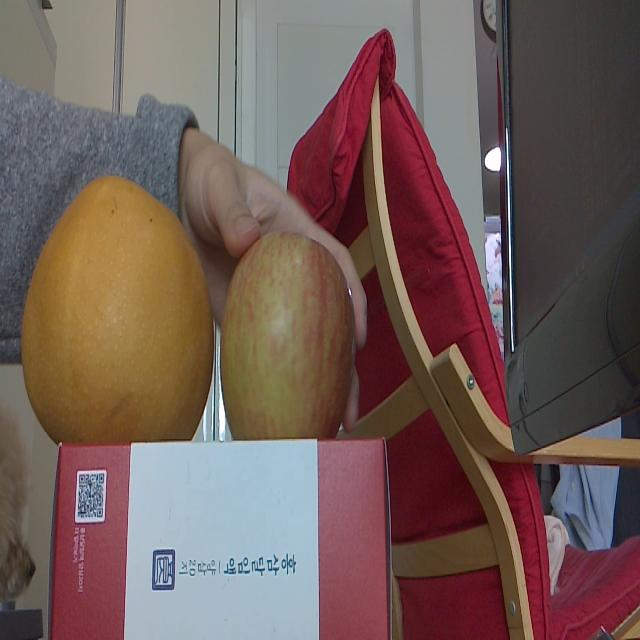apple: (221, 227, 355, 440)
pear: (23, 174, 213, 441)
